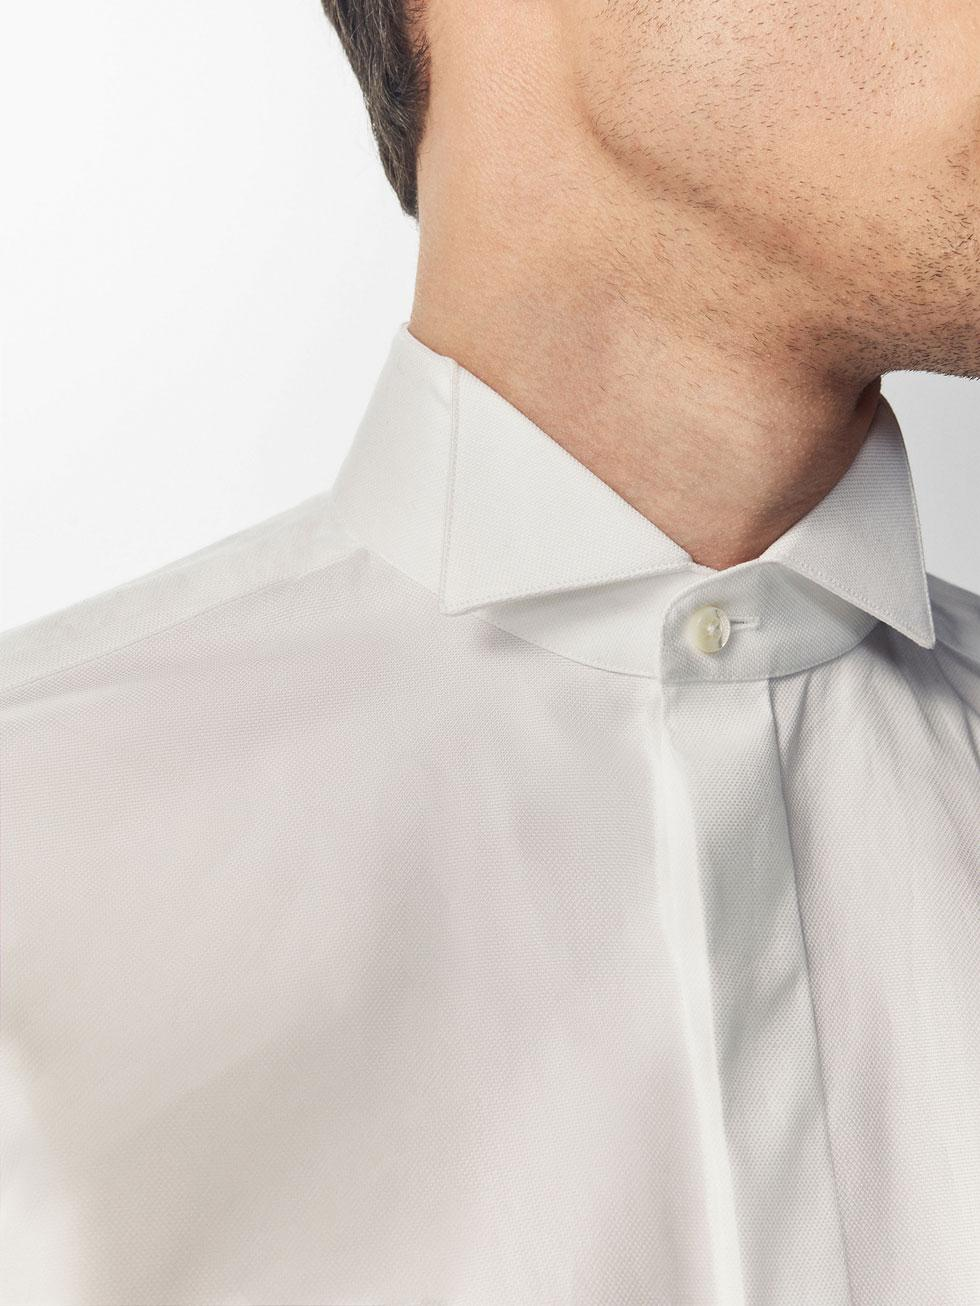teeshirt: (1, 219, 978, 1306)
